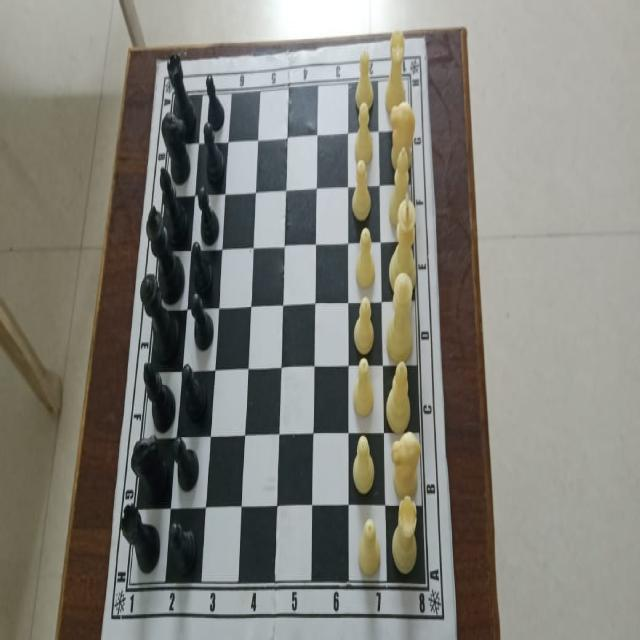corners: (150, 47, 164, 74), (417, 29, 430, 54), (447, 624, 457, 640), (96, 630, 106, 640)
